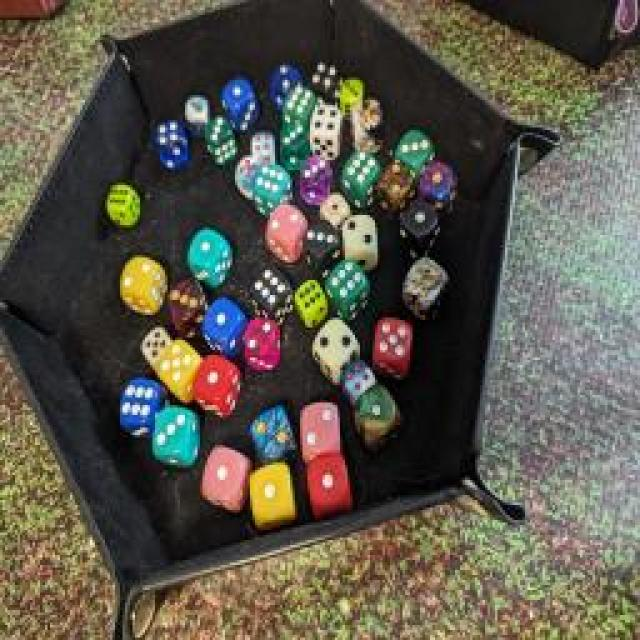dice_1: (198, 441, 254, 511), (305, 450, 357, 525), (191, 346, 241, 422), (245, 459, 303, 521), (393, 196, 445, 264), (352, 382, 402, 448), (196, 295, 252, 353), (186, 226, 236, 289), (216, 74, 262, 128), (414, 160, 458, 208), (319, 189, 349, 229)
dice_2: (309, 315, 359, 390), (292, 397, 342, 465), (114, 252, 166, 312), (240, 312, 285, 370), (252, 402, 292, 466), (265, 200, 307, 260), (380, 159, 418, 216), (338, 212, 384, 256), (181, 89, 214, 129), (271, 64, 299, 111)
dice_3: (151, 401, 201, 469), (166, 271, 209, 341), (306, 219, 344, 276), (202, 114, 240, 166), (299, 151, 329, 204), (280, 122, 308, 172), (339, 71, 366, 121)
dice_4: (392, 128, 438, 188), (150, 114, 188, 174), (310, 101, 342, 159), (338, 352, 374, 402), (310, 59, 342, 106), (249, 123, 276, 165)
dice_5: (149, 339, 201, 399), (371, 309, 411, 381), (349, 95, 389, 157), (234, 150, 264, 205), (136, 322, 169, 370)
dice_6: (317, 254, 375, 318), (400, 252, 450, 326), (115, 376, 165, 436), (338, 150, 384, 210), (248, 265, 292, 327), (250, 164, 295, 218), (102, 178, 146, 224), (294, 276, 328, 329), (282, 87, 316, 135)
